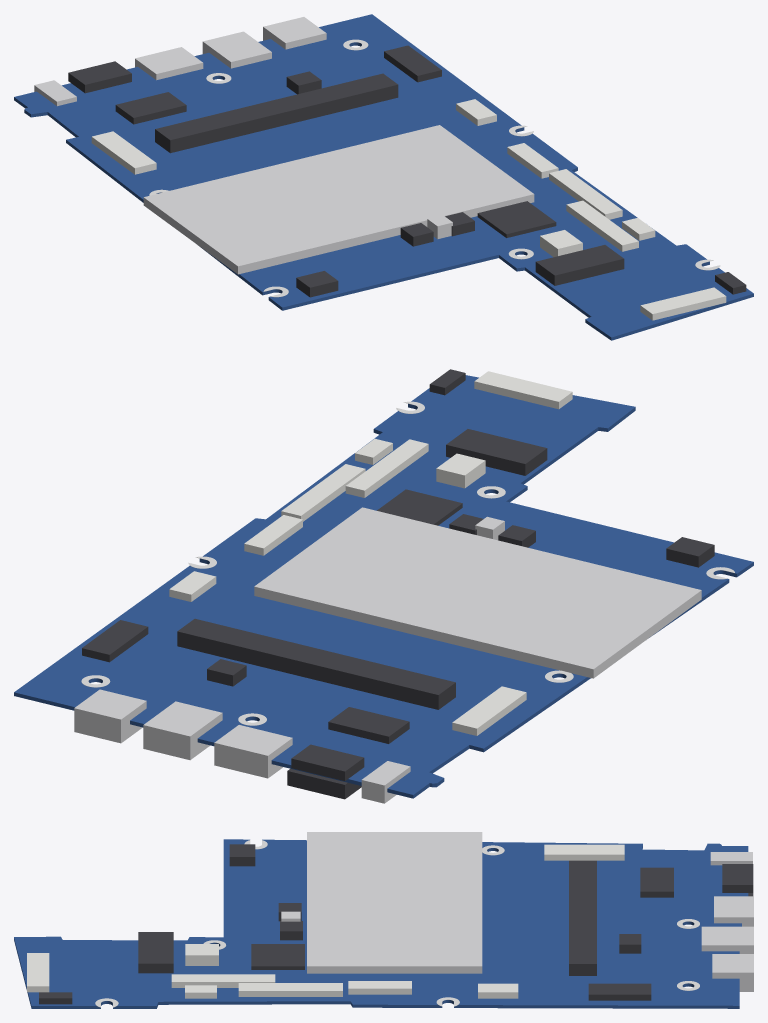
Rendered from board.glb.
3 renders of one model, top to bottom at view 1: azimuth 30°, elevation 25°; view 2: azimuth 150°, elevation 25°; view 3: azimuth 270°, elevation 25°, orthographic. The views are drawn at different scales.
Parts seen in each view (by area): view 1: PCB, cpu_heatplate, sodimm_slot, m2_socket, ec_chip, usb_a_1, fpc_8, hdmi, lan_magnetics, fpc_6, fpc_1, usb_a_2 (+10 smaller); view 2: PCB, cpu_heatplate, sodimm_slot, usb_a_1, hdmi, m2_socket, usb_a_2, fpc_8, lan_magnetics, fpc_6, fpc_1, ec_chip (+10 smaller); view 3: PCB, cpu_heatplate, sodimm_slot, m2_socket, fpc_5, usb_a_1, ec_chip, fpc_1, usb_a_2, fpc_6, hdmi, fpc_2 (+12 smaller).
Part boxes in pixels (x1,y1,x2,y2): PCB: (14, 14, 753, 340); cpu_heatplate: (143, 125, 534, 274); sodimm_slot: (155, 73, 398, 153); m2_socket: (535, 245, 624, 285); ec_chip: (477, 201, 556, 237); usb_a_1: (202, 31, 271, 68); fpc_8: (640, 287, 726, 320); hdmi: (135, 47, 203, 80); lan_magnetics: (115, 92, 186, 124); fpc_6: (566, 200, 638, 251); fpc_1: (91, 131, 156, 174); usb_a_2: (263, 17, 326, 49); PCB: (14, 375, 753, 798); cpu_heatplate: (254, 507, 701, 678); sodimm_slot: (177, 618, 455, 709); usb_a_1: (143, 701, 222, 760); hdmi: (214, 725, 292, 778); m2_socket: (446, 429, 547, 475); usb_a_2: (74, 689, 146, 743); fpc_8: (474, 371, 572, 409); lan_magnetics: (328, 707, 409, 743); fpc_6: (345, 439, 428, 497); fpc_1: (452, 686, 526, 735); ec_chip: (377, 489, 462, 525); PCB: (14, 839, 748, 1008); cpu_heatplate: (307, 832, 482, 973); sodimm_slot: (569, 860, 596, 975); m2_socket: (138, 932, 173, 973); fpc_5: (238, 983, 342, 996); usb_a_1: (701, 926, 753, 953); ec_chip: (251, 944, 304, 969); fpc_1: (544, 844, 624, 860); usb_a_2: (712, 954, 753, 991); fpc_6: (171, 974, 275, 987); hdmi: (714, 896, 753, 926); fpc_2: (588, 983, 651, 1000).
Bounding box in the file's own units: 120 × 8.9 × 222.
